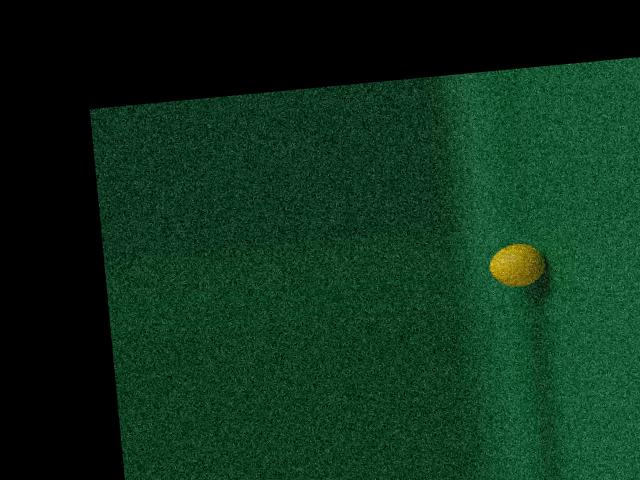egg: (487, 240, 547, 287)
